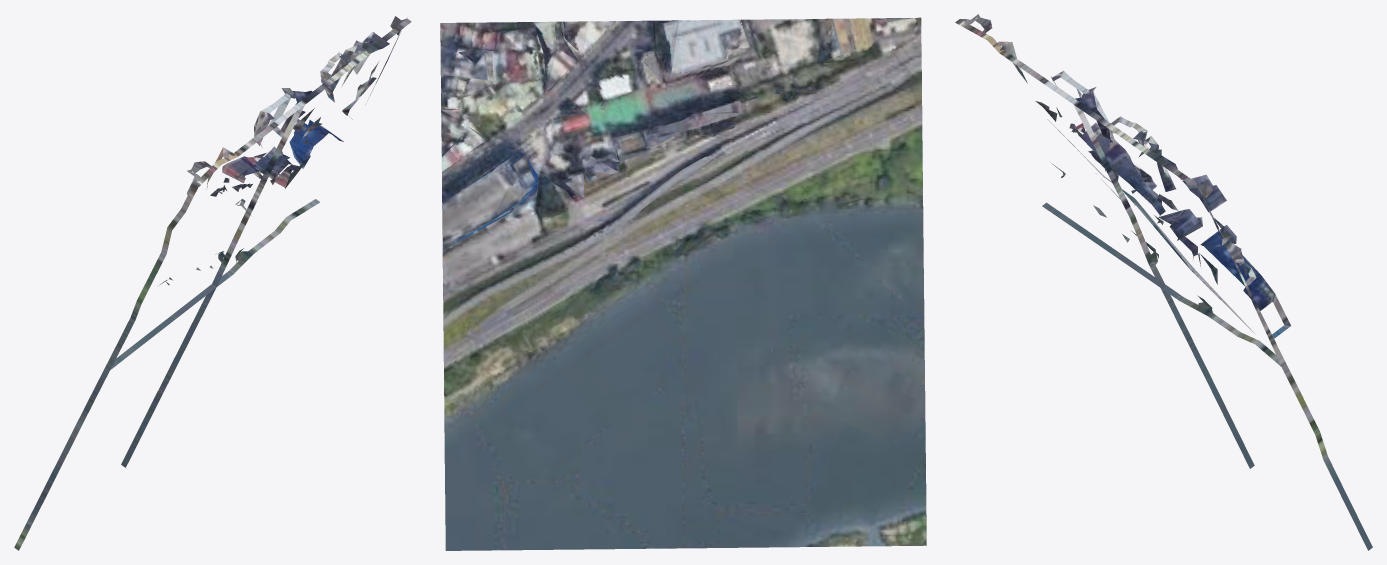
3 views of the same model, side by side, from view 1: azimuth 30°, elevation 25°; view 2: azimuth 150°, elevation 25°; view 3: azimuth 270°, elevation 25° (orthographic). The views are drawn at different scales.
Size of the model in its own units: 609 by 572 by 511.
Materials: 1 (1 with a texture image).
